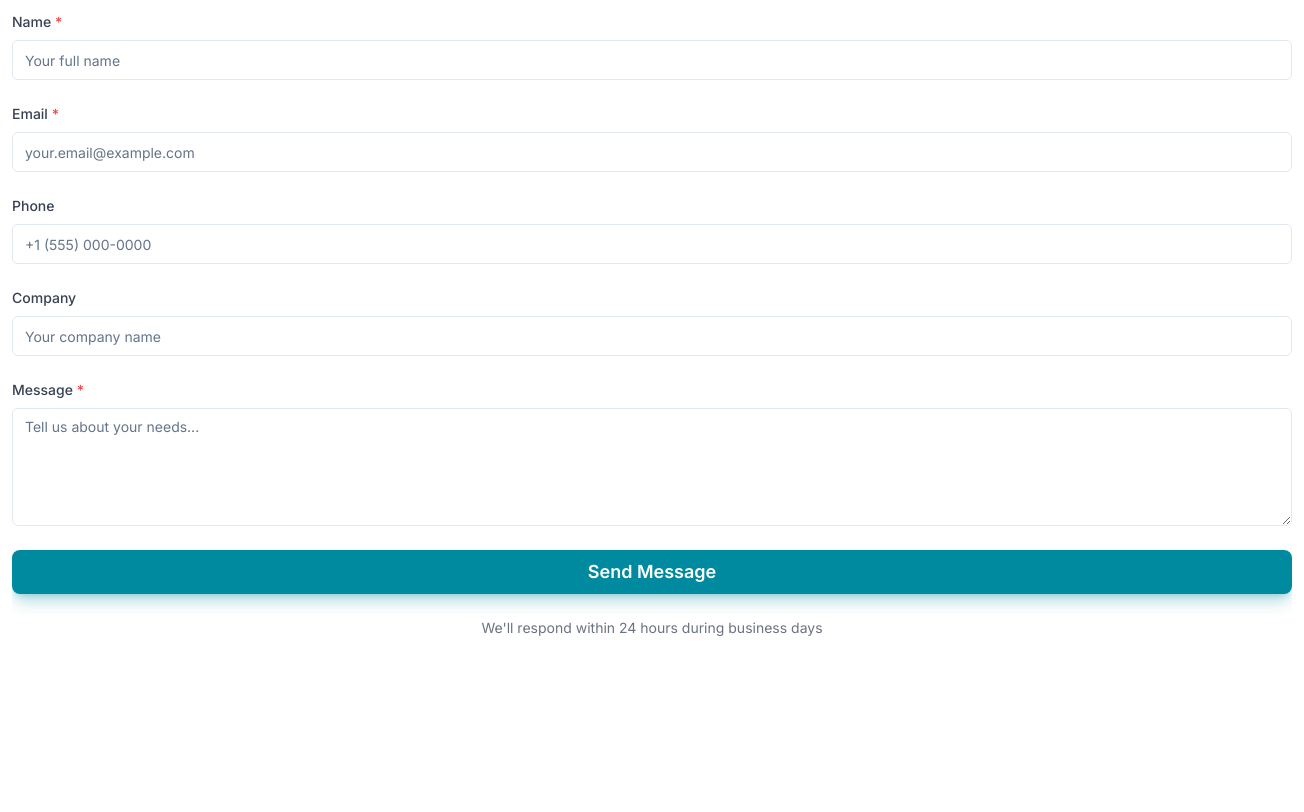
ContactForm › shows validation error for short message
Step 1. Type "John Doe" into the field labelled "Name *" → (652, 60), box [12, 40, 1292, 80]
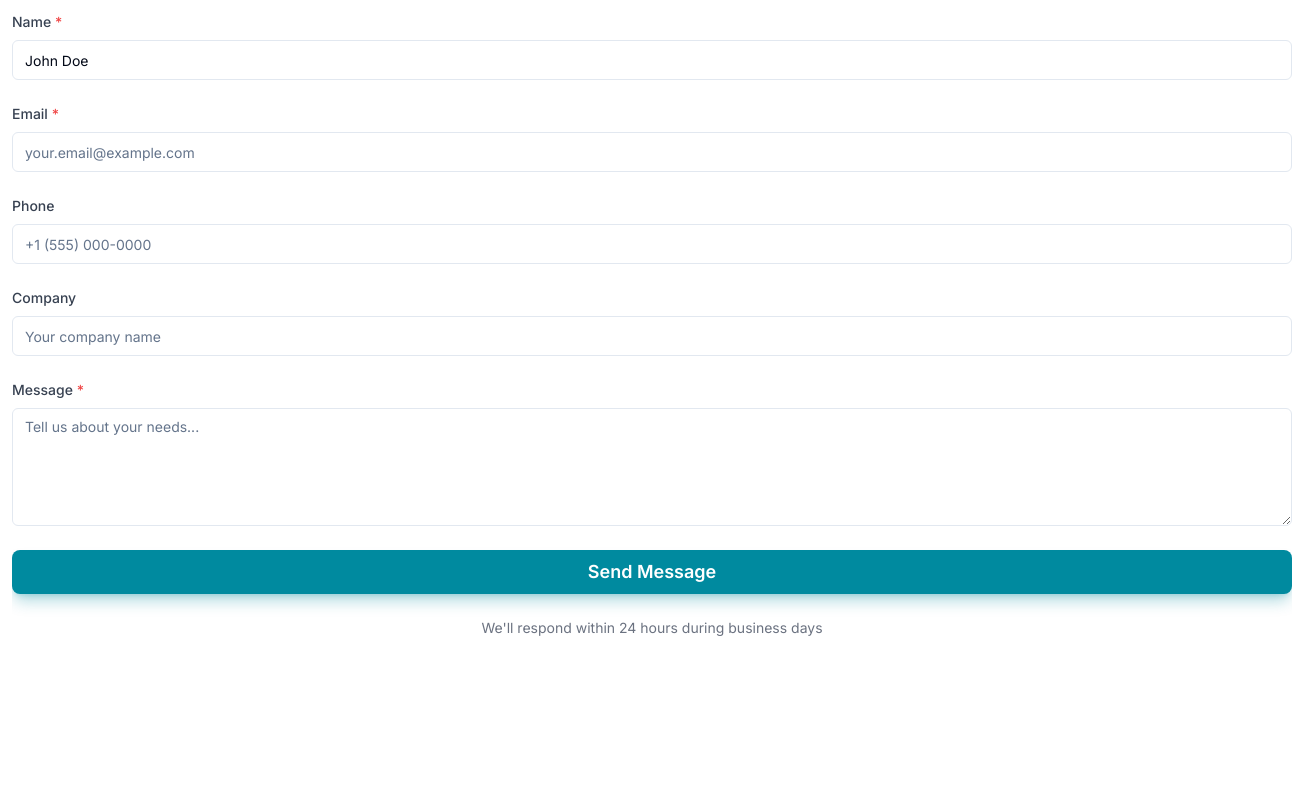
Step 2. Type "john@example.com" into the field labelled "Email *" → (652, 152), box [12, 132, 1292, 172]
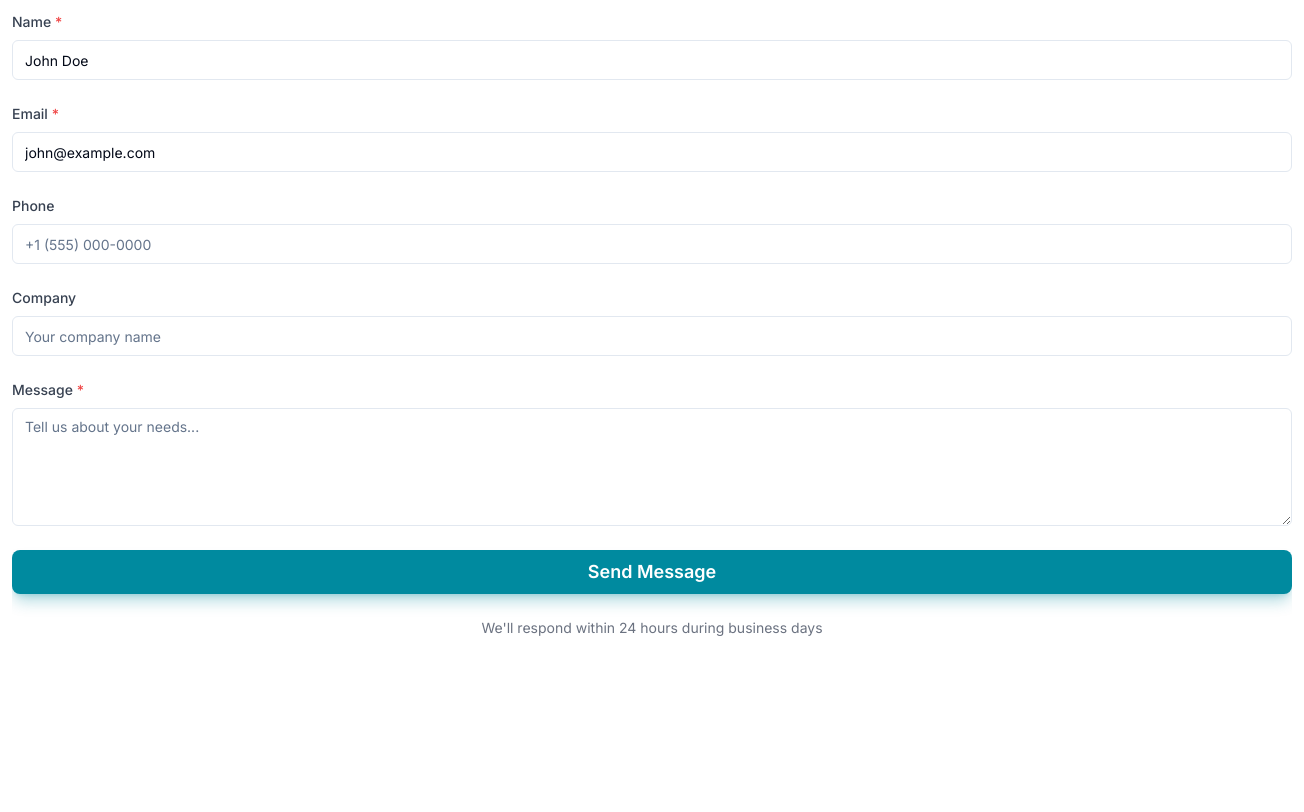
Step 3. Type "Short" into the text box labelled "Message *" → (652, 467), box [12, 408, 1292, 526]
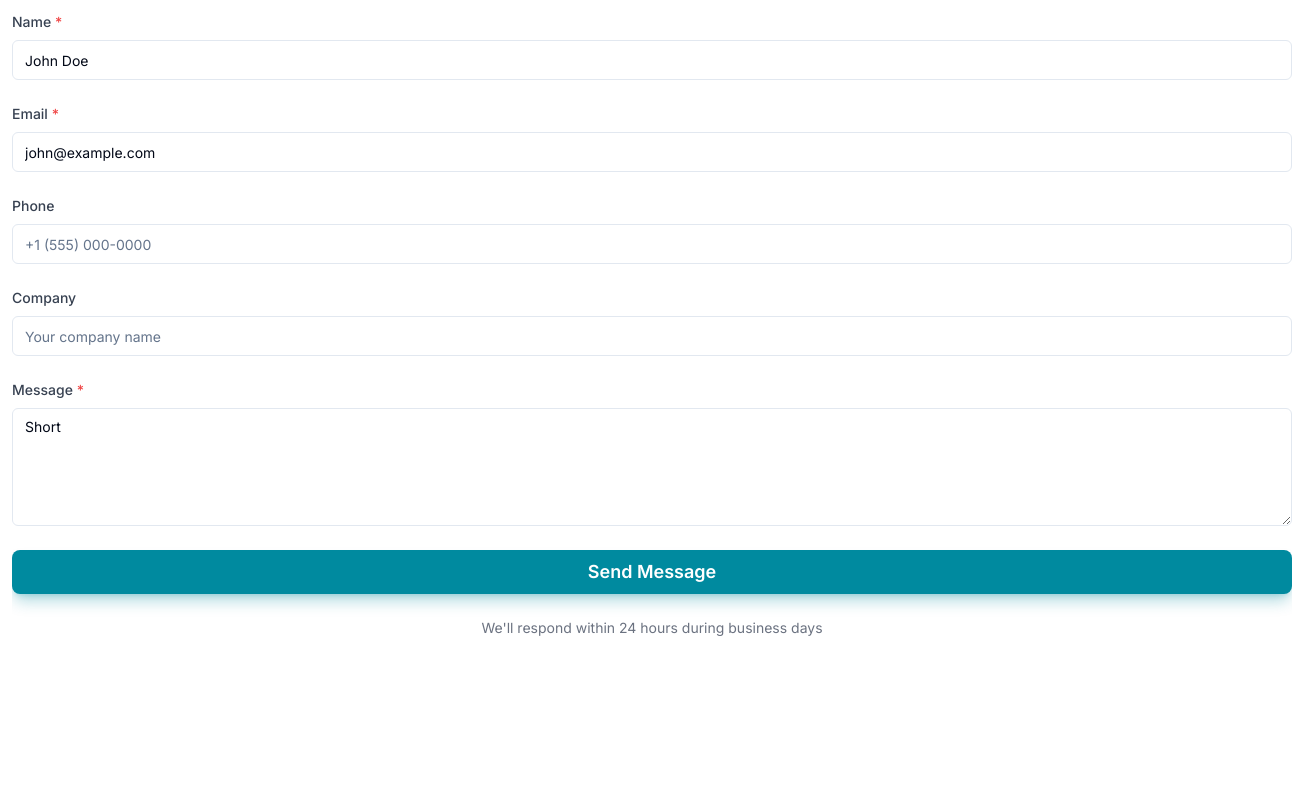
Step 4. Click the button "Send Message" → (652, 572), box [12, 550, 1292, 594]
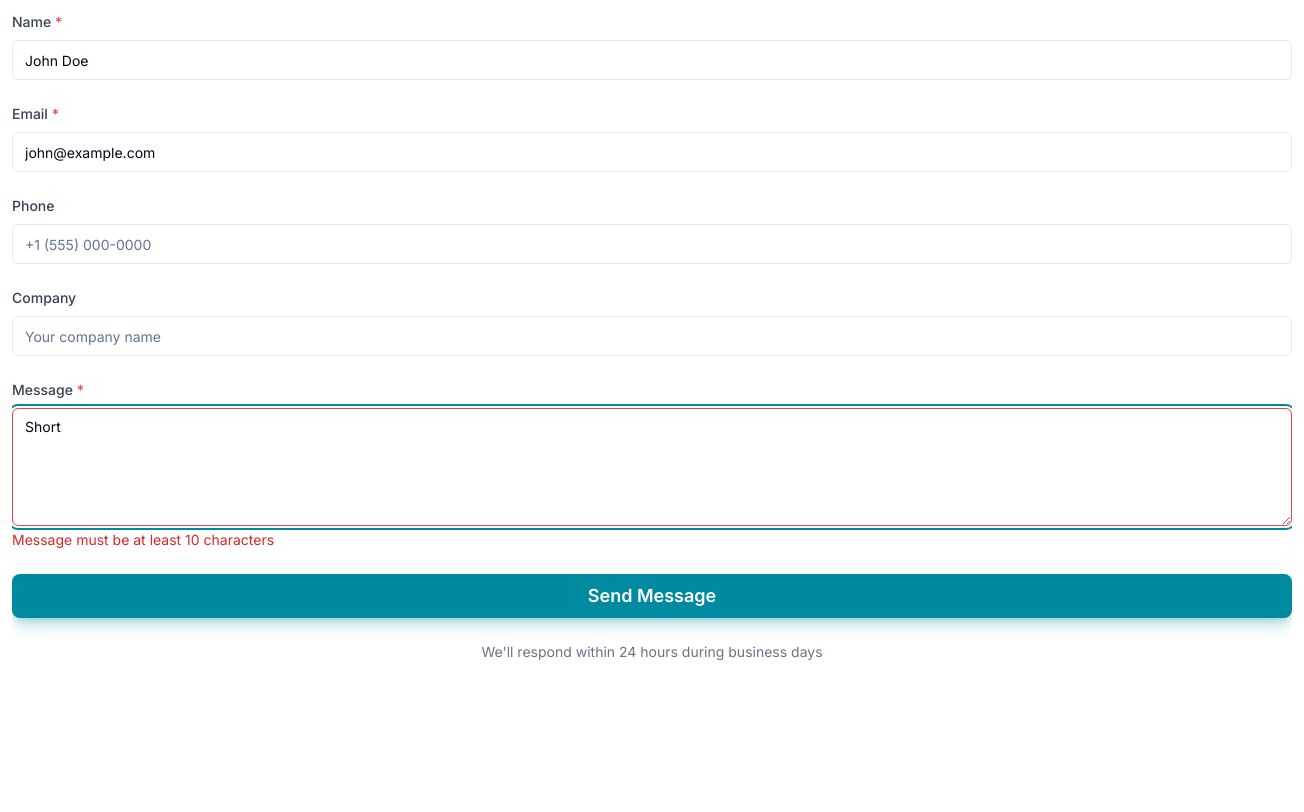
Expected: the text "Message must be at least 10 characters" is shown, [12, 531, 274, 548]
